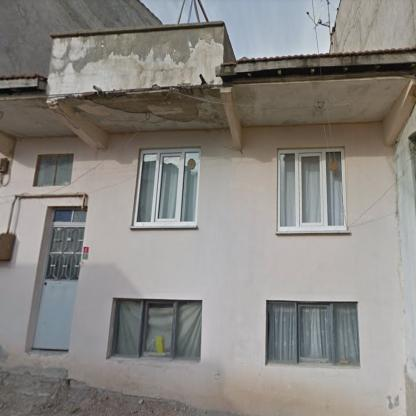door: (32, 224, 85, 350)
window: (277, 149, 346, 231), (268, 303, 359, 365), (112, 300, 201, 361), (133, 149, 200, 226), (34, 154, 72, 185), (53, 209, 86, 222)
